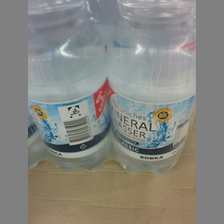water: (107, 1, 196, 175), (28, 1, 108, 175)
